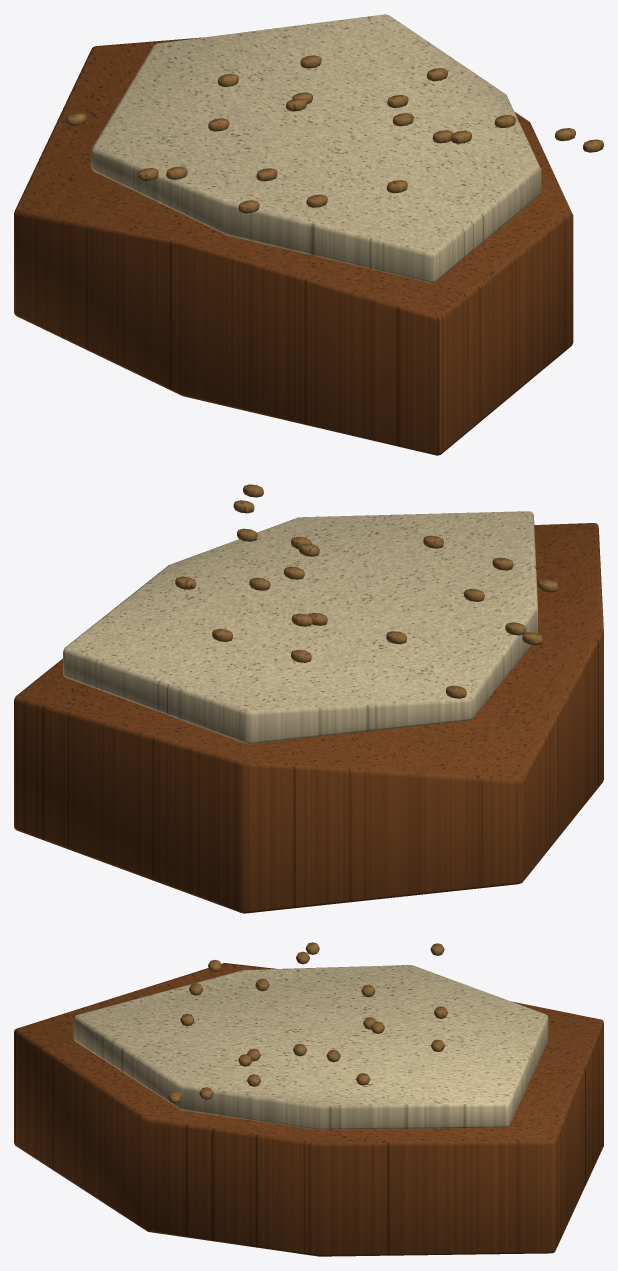
File: food-03-residue.glb
3 views of the same model, one above another, from view 1: azimuth 30°, elevation 25°; view 2: azimuth 150°, elevation 25°; view 3: azimuth 270°, elevation 25° (orthographic). The views are drawn at different scales.
Parts seen in each view (by area): view 1: Food; view 2: Food; view 3: Food.
Boxes of the visible parts, x1,y1,x2,y2 form: Food: (14, 14, 603, 455); Food: (14, 484, 603, 913); Food: (14, 942, 603, 1256).
Bounding box in the file's own units: 0.287 × 0.1128 × 0.3894.
1 material, 1 textured.
